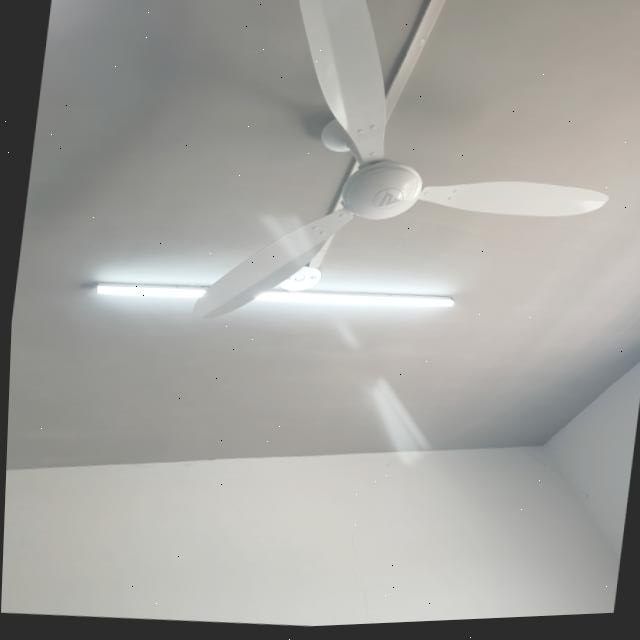fluorescent tube: (80, 256, 461, 339)
